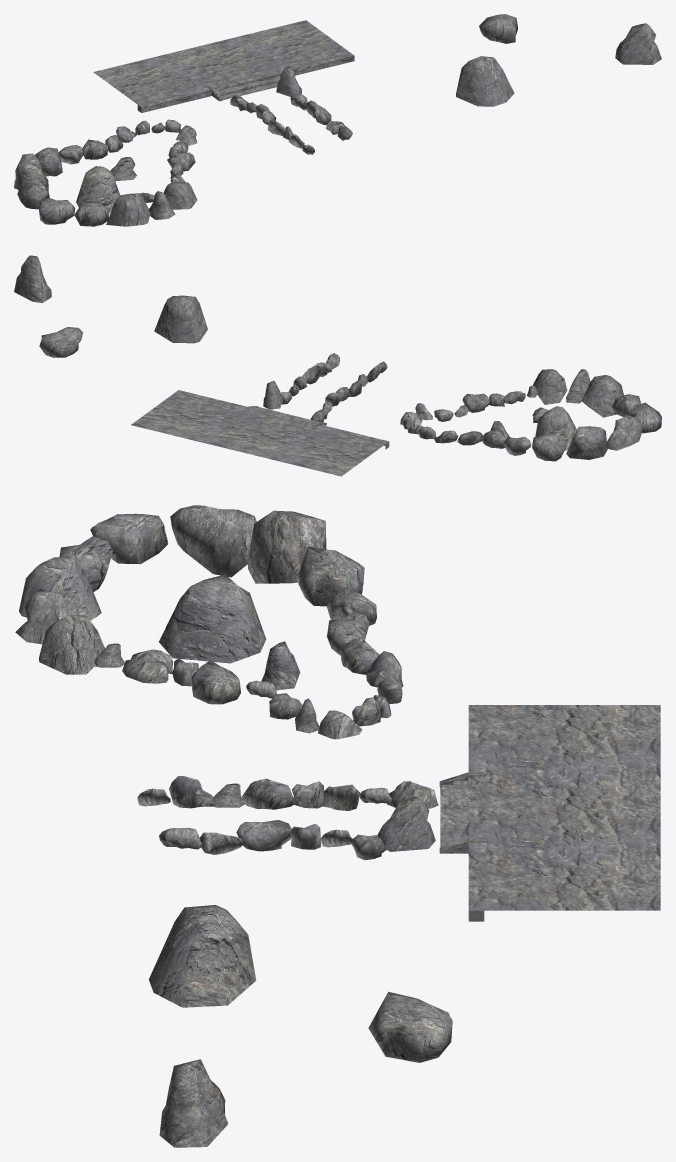
The model's file is pondStones.fbx.
The picture shows the model from 3 angles, top to bottom: view 1: azimuth 30°, elevation 25°; view 2: azimuth 150°, elevation 25°; view 3: azimuth 270°, elevation 25°; orthographic projection. The views are drawn at different scales.
Visible parts, largest first — view 1: pondStones; view 2: pondStones; view 3: pondStones.
Part boxes in pixels (x1,y1,x2,y2): pondStones: (14,14,661,226); pondStones: (14,255,661,476); pondStones: (15,505,660,1147).
Size of the model in its own units: 406 by 32.27 by 181.
